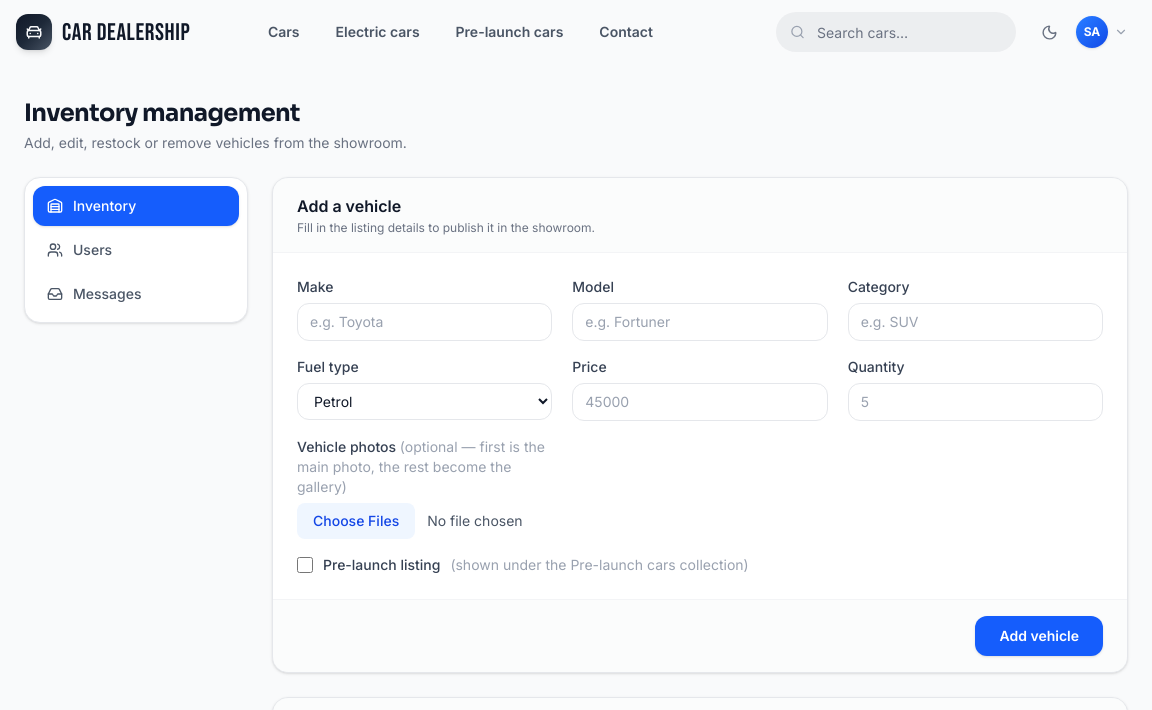
Test case: AdminPage › sends the chosen fuel type and pre-launch flag
In the field labelled "Make": (425, 322) [297,303,552,341], type "Tesla"
In the field labelled "Model": (700, 322) [572,303,828,341], type "Model 3"
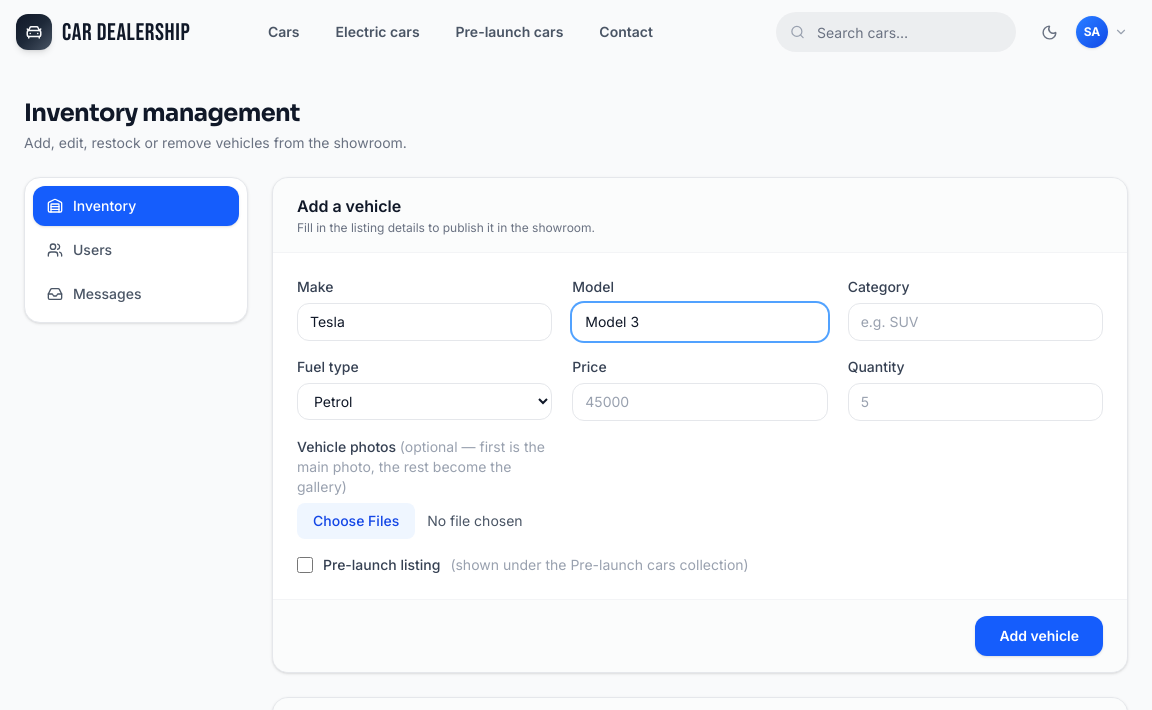
In the field labelled "Category": (975, 322) [848,303,1103,341], type "EV"
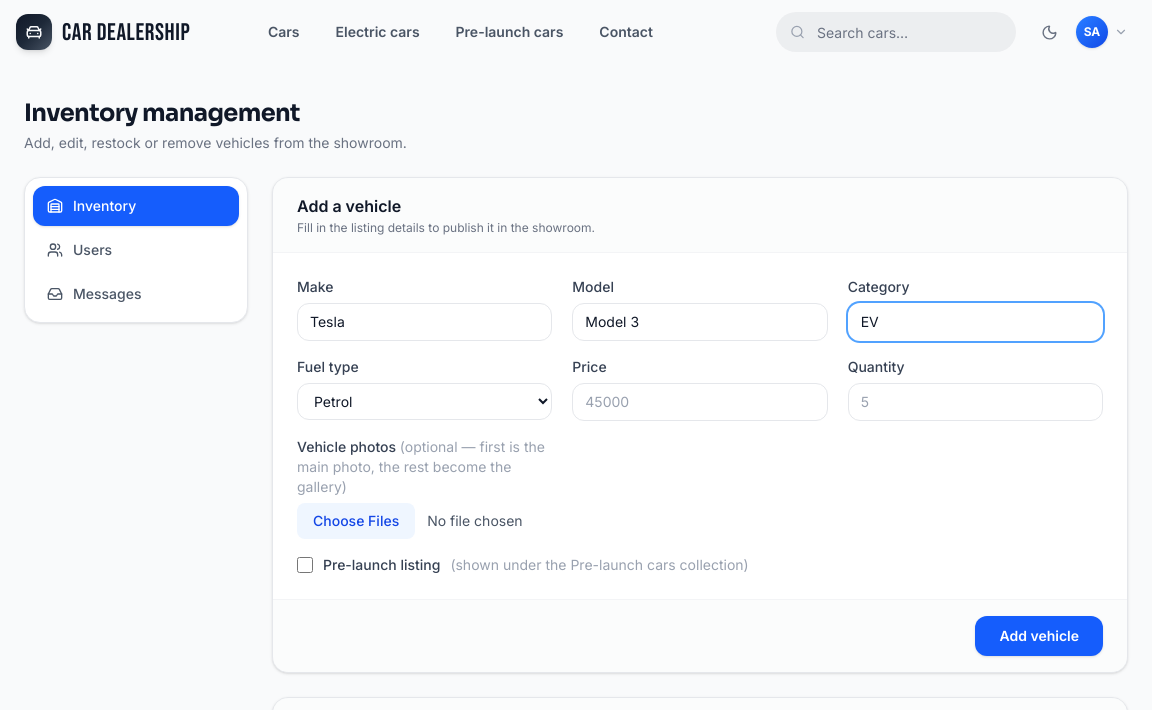
Select "Electric" in the dropdown labelled "Fuel type": (425, 402) [297,383,552,420]
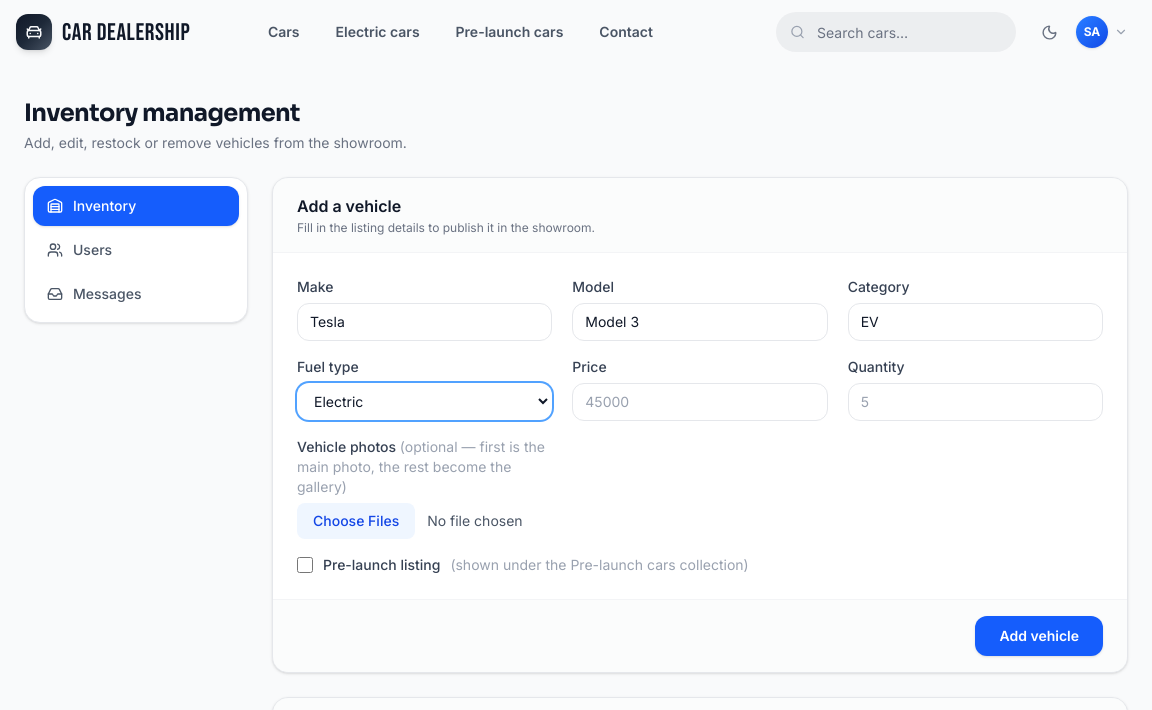
Click the checkbox labelled "Pre-launch listing": (305, 565) [297,557,313,573]
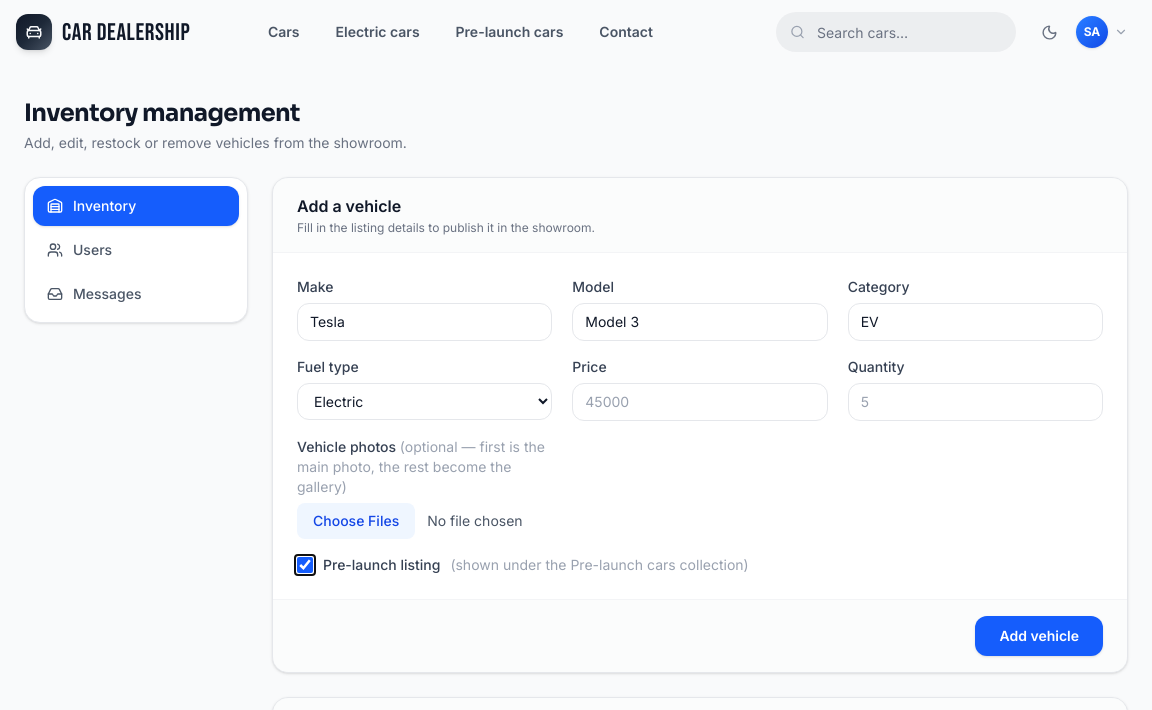
In the number field labelled "Price": (700, 402) [572,383,828,421], type "50000"
In the number field labelled "Quantity": (975, 402) [848,383,1103,421], type "2"
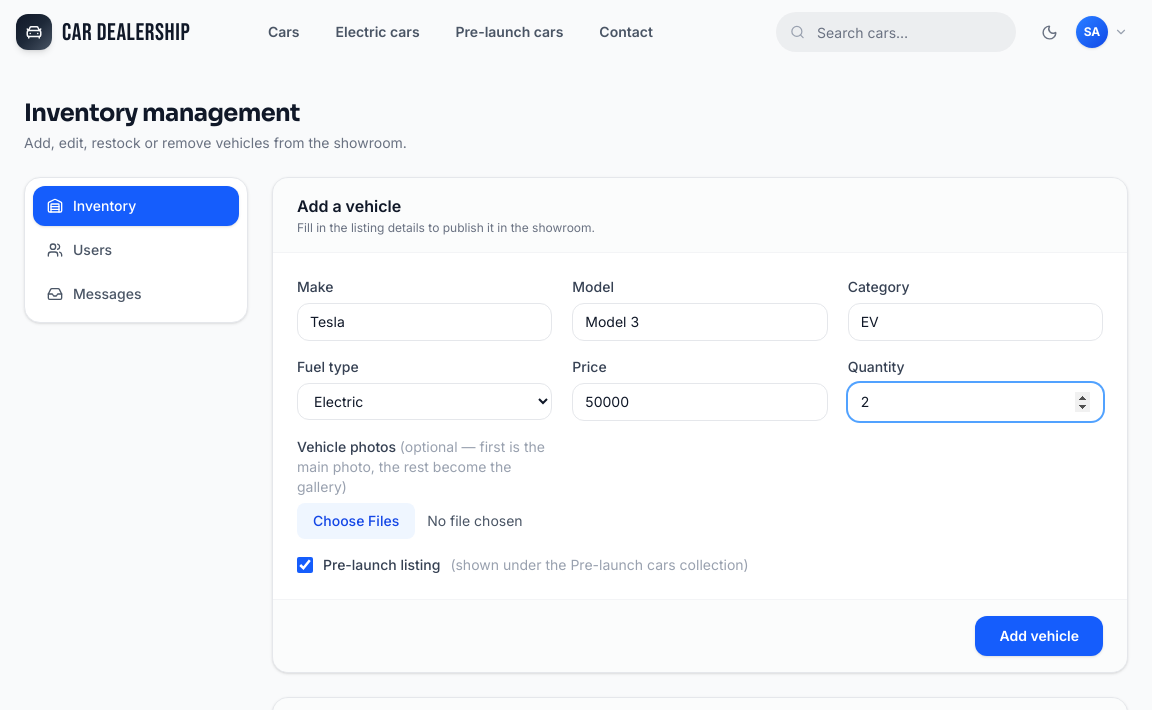
Click the button "Add vehicle": (1039, 636) [976,616,1103,656]
(page scrolled)
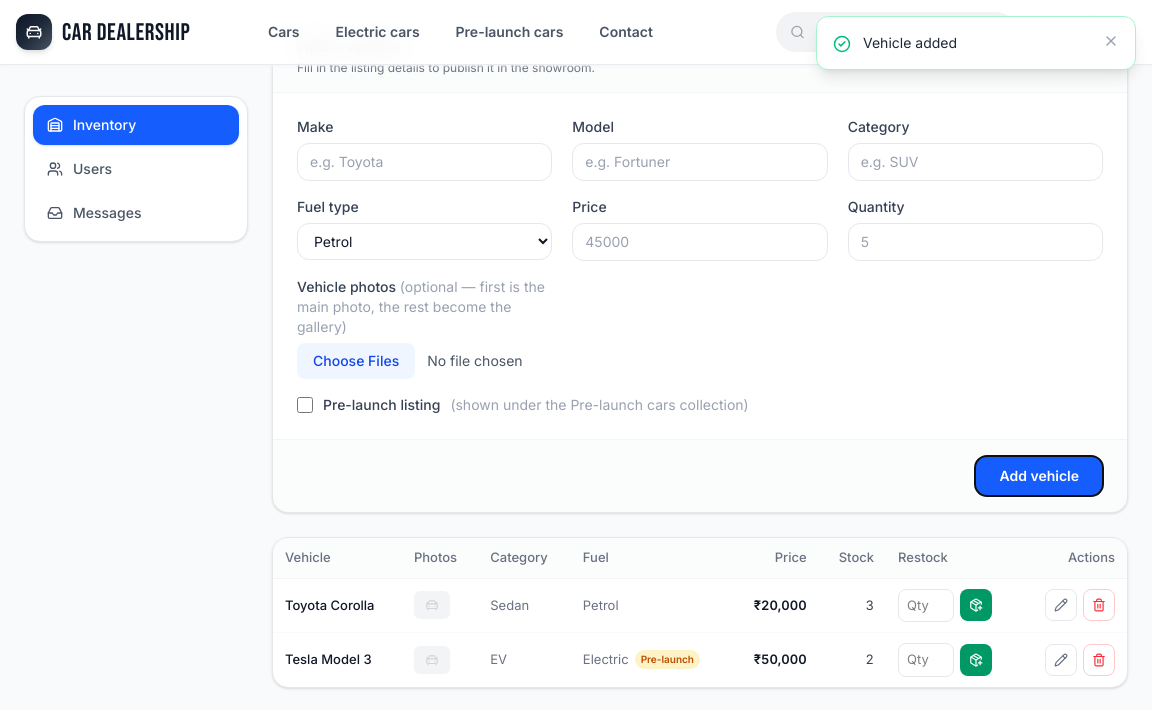
Result: the text "Tesla Model 3" is shown at [285,651,372,667]
